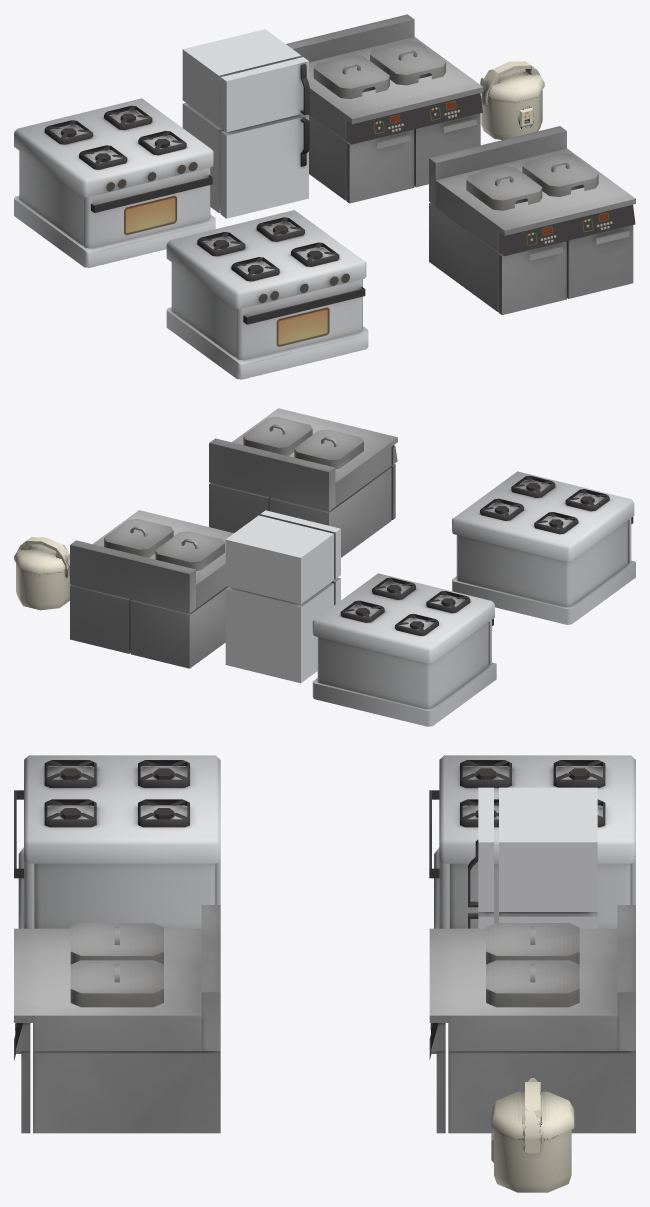
The model's file is Appliances.gltf.
3 views of the same model, one above another, from view 1: azimuth 30°, elevation 25°; view 2: azimuth 150°, elevation 25°; view 3: azimuth 270°, elevation 25° (orthographic). The views are drawn at different scales.
Parts seen in each view (by area): view 1: BasicDeepFryerAppliance, BasicStoveAppliance, BasicDeepFryer, BasicFridgeAppliance, BasicStove, BasicStoveOven, BasicRiceCookerAppliance, BasicDeepFryerLid, BasicDeepFryerLid.001, BasicStoveOvenOn, BasicStoveOvenOff, BasicStoveGrate.001 (+3 smaller); view 2: BasicStoveAppliance, BasicStove, BasicDeepFryerAppliance, BasicDeepFryer, BasicFridgeAppliance, BasicRiceCookerAppliance, BasicDeepFryerLid, BasicDeepFryerLid.001, BasicStoveGrate, BasicStoveGrate.001, BasicStoveGrate.003, BasicStoveGrate.002; view 3: BasicDeepFryerAppliance, BasicStoveAppliance, BasicDeepFryer, BasicFridgeAppliance, BasicStove, BasicRiceCookerAppliance, BasicDeepFryerLid.001, BasicDeepFryerLid, BasicStoveOven, BasicStoveGrate.003, BasicStoveGrate.001.
Part boxes in pixels (x1,y1,x2,y2): BasicDeepFryerAppliance: (429, 126, 635, 315); BasicStoveAppliance: (166, 210, 368, 379); BasicDeepFryer: (286, 14, 483, 203); BasicFridgeAppliance: (182, 29, 309, 218); BasicStove: (14, 98, 215, 267); BasicStoveOven: (83, 167, 212, 248); BasicRiceCookerAppliance: (480, 61, 544, 139); BasicDeepFryerLid: (313, 55, 389, 99); BasicDeepFryerLid.001: (370, 41, 445, 85); BasicStoveOvenOn: (124, 195, 176, 234); BasicStoveOvenOff: (124, 196, 176, 234); BasicStoveGrate.001: (79, 145, 127, 169); BasicStoveAppliance: (452, 471, 635, 624); BasicStove: (312, 573, 496, 726); BasicDeepFryerAppliance: (209, 408, 397, 557); BasicDeepFryer: (70, 510, 233, 668); BasicFridgeAppliance: (225, 510, 340, 683); BasicRiceCookerAppliance: (14, 537, 70, 610); BasicDeepFryerLid: (155, 531, 224, 570); BasicDeepFryerLid.001: (104, 518, 173, 557); BasicStoveGrate: (340, 600, 384, 622); BasicStoveGrate.001: (426, 591, 470, 613); BasicStoveGrate.003: (395, 614, 438, 635); BasicStoveGrate.002: (372, 577, 415, 599); BasicDeepFryerAppliance: (14, 905, 220, 1133); BasicStoveAppliance: (14, 755, 220, 928); BasicDeepFryer: (429, 905, 635, 1133); BasicFridgeAppliance: (468, 787, 597, 928); BasicStove: (434, 755, 635, 928); BasicRiceCookerAppliance: (491, 1078, 574, 1192); BasicDeepFryerLid.001: (486, 960, 579, 1007); BasicDeepFryerLid: (486, 923, 579, 964); BasicStoveOven: (429, 790, 449, 928); BasicStoveGrate.003: (553, 760, 605, 787); BasicStoveGrate.001: (460, 760, 511, 787).
Size of the model in its own units: 2.97 by 0.795 by 2.4.
11 materials, 10 textured.
